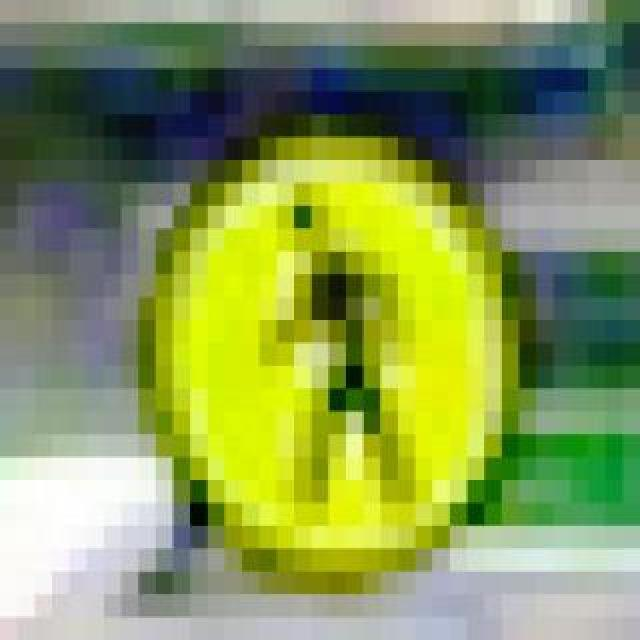pedestrian crossing: (104, 92, 520, 572)
